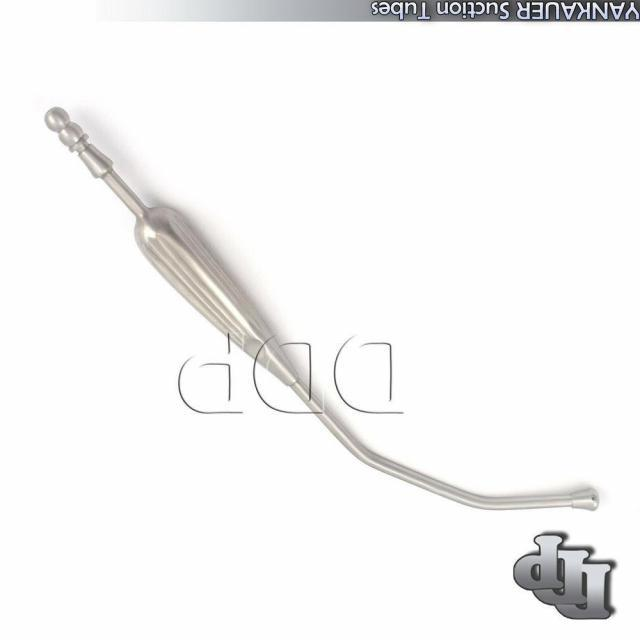Yankauer: (41, 96, 604, 518)
